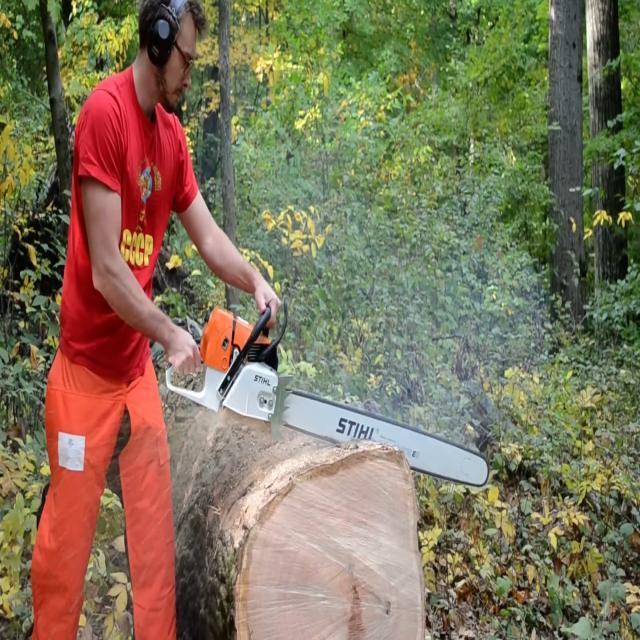Chainsaw: (155, 284, 500, 516)
